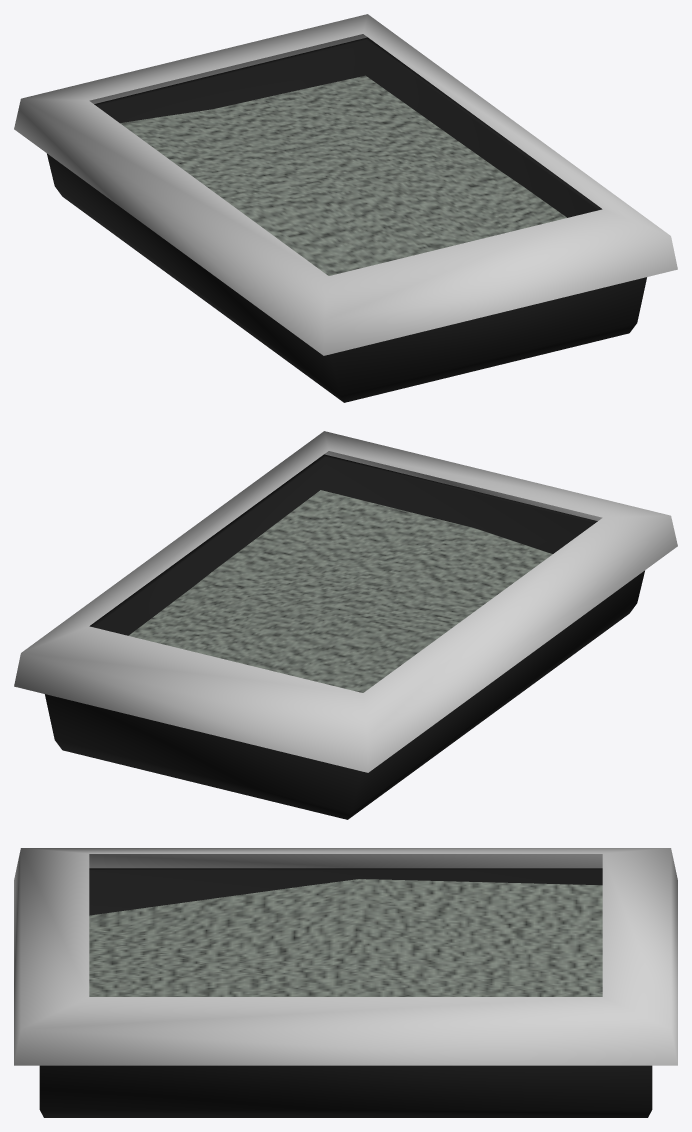
Rendered from Kitty_Box_A.FBX.
3 renders of one model, top to bottom at view 1: azimuth 30°, elevation 25°; view 2: azimuth 150°, elevation 25°; view 3: azimuth 270°, elevation 25°, orthographic. The views are drawn at different scales.
Parts seen in each view (by area): view 1: Kitty Box; view 2: Kitty Box; view 3: Kitty Box.
Boxes of the visible parts, <box> form: Kitty Box: <box>14,14,677,402</box>; Kitty Box: <box>14,431,677,819</box>; Kitty Box: <box>14,848,677,1117</box>.
Bounding box in the file's own units: 107 × 32.85 × 163.
